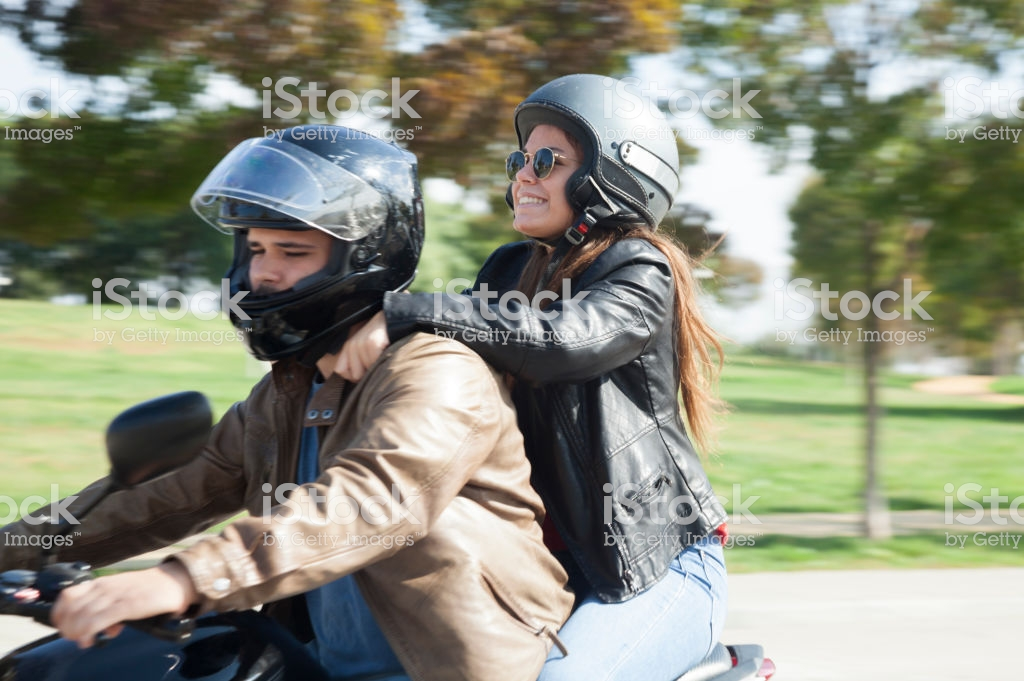helmet: (216, 121, 429, 319), (519, 69, 675, 239)
